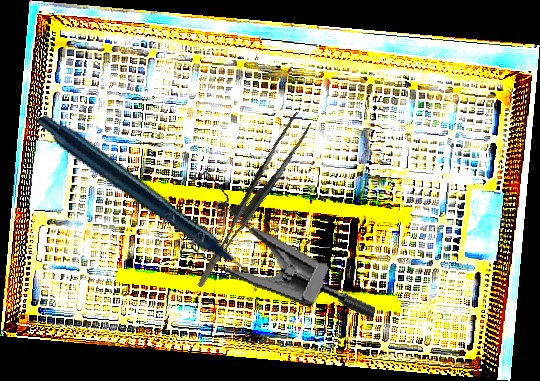Handpiece: (34, 70, 260, 339)
Speculum: (151, 164, 397, 321)
Tissue Forceps: (170, 111, 328, 288)
